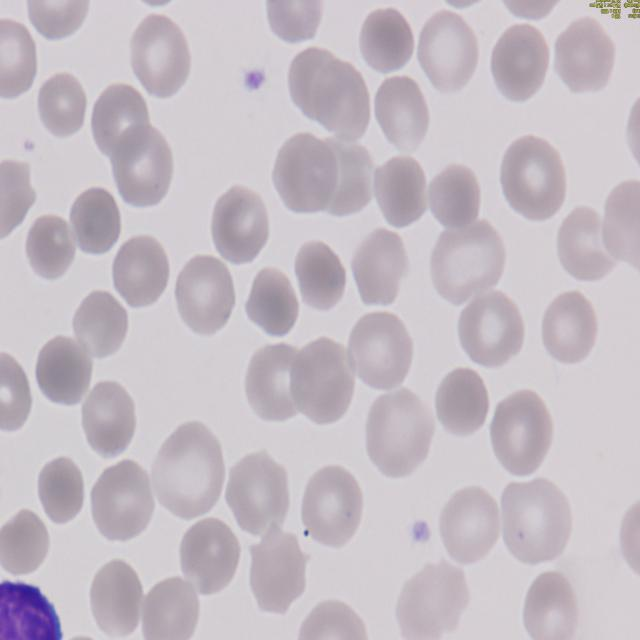Platelets: (406, 516, 431, 550)
RBC: (148, 420, 228, 522), (426, 214, 508, 308), (359, 383, 436, 480), (271, 130, 355, 216), (287, 46, 367, 136), (500, 476, 574, 572), (498, 134, 571, 226), (298, 462, 368, 556), (486, 384, 556, 478), (84, 459, 158, 547), (225, 451, 294, 542), (124, 12, 192, 104), (348, 307, 417, 397), (106, 121, 174, 212), (396, 560, 473, 640), (455, 290, 529, 373), (410, 12, 480, 98), (86, 80, 154, 168), (288, 336, 354, 426), (172, 249, 238, 338), (243, 338, 309, 427), (245, 530, 310, 618), (434, 485, 500, 570), (552, 201, 618, 286), (204, 186, 272, 267), (351, 226, 414, 312), (486, 24, 552, 106), (77, 379, 139, 466), (552, 18, 618, 98), (178, 519, 243, 596), (288, 239, 349, 321), (106, 234, 170, 312), (536, 289, 598, 369), (368, 152, 429, 233), (82, 558, 142, 640), (32, 334, 95, 412), (371, 71, 432, 151), (240, 268, 301, 346), (70, 288, 130, 366), (519, 569, 582, 640), (139, 575, 202, 640), (0, 510, 57, 580), (599, 179, 640, 274), (37, 70, 90, 141), (290, 597, 372, 640), (0, 349, 37, 436), (0, 15, 37, 101), (262, 0, 324, 51), (22, 0, 96, 42), (0, 161, 35, 244), (618, 493, 640, 583), (625, 88, 640, 182)
Spherocyte: (352, 4, 417, 82), (64, 185, 125, 262), (428, 162, 488, 237), (32, 454, 88, 529), (435, 368, 489, 440)
WBC: (0, 573, 73, 640)
